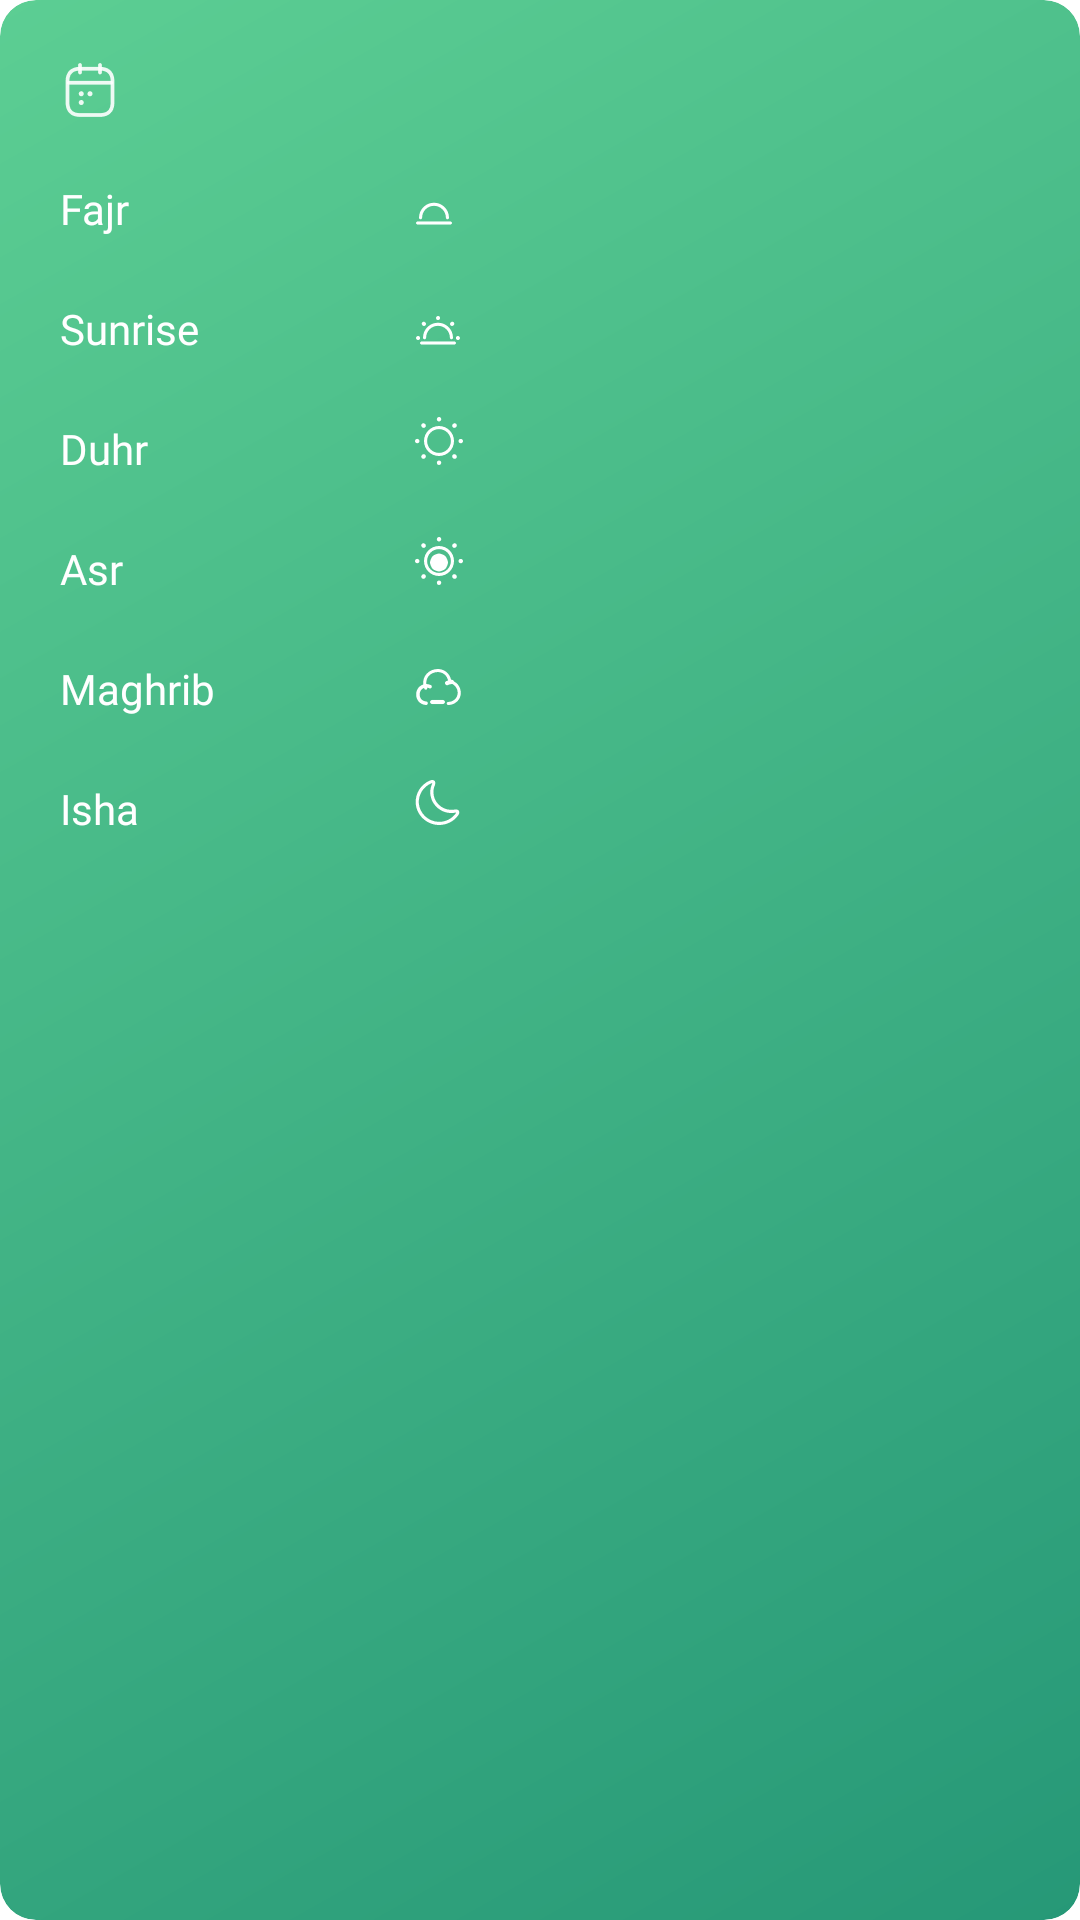

Screen size 1080*1920. Icon name, then its center in pixels as (x,y):
calendar: (90,90)
elasr: (439,561)
eldhur: (439,441)
elfajr: (434,213)
elisha: (437,802)
sunrise: (438,330)
